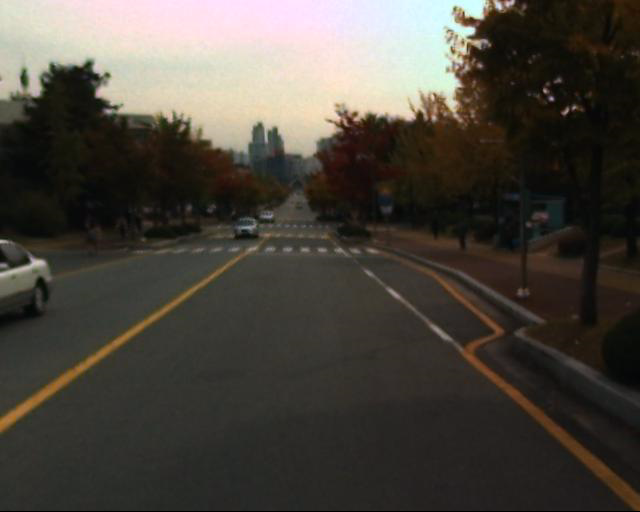person: (452, 206, 476, 258), (500, 210, 520, 255)
